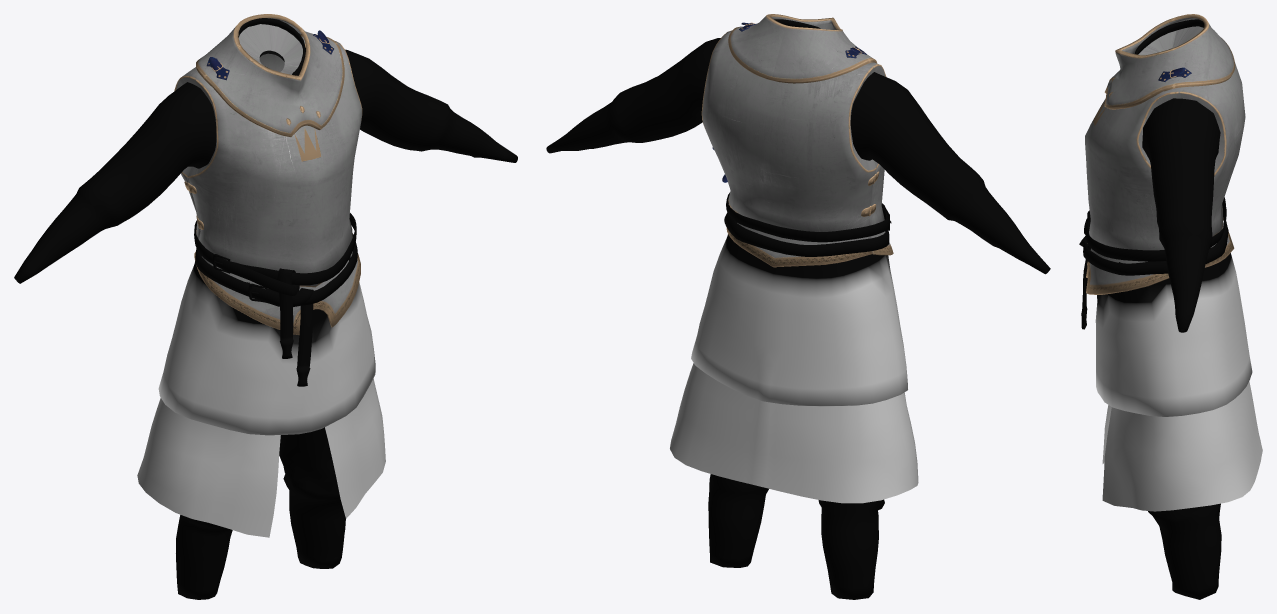
Rendered from swan_knight_armor_2b_t2_slim.fbx.
The picture shows the model from 3 angles, left to right: view 1: azimuth 30°, elevation 25°; view 2: azimuth 150°, elevation 25°; view 3: azimuth 270°, elevation 25°; orthographic projection. The views are drawn at different scales.
Parts seen in each view (by area): view 1: swan_knight_armor_2b_t2_slim.0, swan_knight_armor_2b_t2_slim.1; view 2: swan_knight_armor_2b_t2_slim.0, swan_knight_armor_2b_t2_slim.1; view 3: swan_knight_armor_2b_t2_slim.0, swan_knight_armor_2b_t2_slim.1.
Boxes of the visible parts, x1,y1,x2,y2 form: swan_knight_armor_2b_t2_slim.0: [14, 18, 517, 599]; swan_knight_armor_2b_t2_slim.1: [174, 14, 362, 335]; swan_knight_armor_2b_t2_slim.0: [546, 19, 1050, 599]; swan_knight_armor_2b_t2_slim.1: [701, 14, 893, 267]; swan_knight_armor_2b_t2_slim.0: [1079, 19, 1262, 599]; swan_knight_armor_2b_t2_slim.1: [1085, 14, 1245, 294].
Size of the model in its own units: 1.3 by 0.424 by 1.38.
